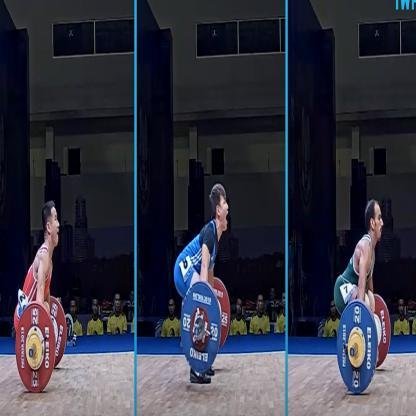Barbell: (347, 330, 365, 368), (192, 315, 209, 347), (26, 336, 42, 368)
